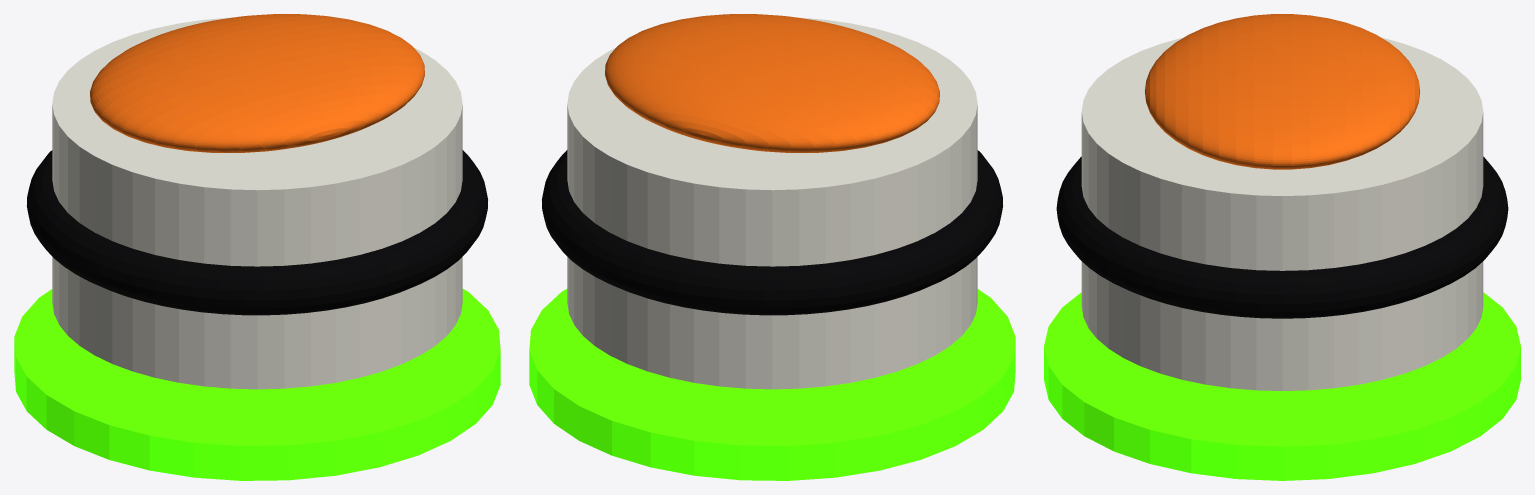
The model's file is food_sushi.dae.
3 views of the same model, side by side, from view 1: azimuth 30°, elevation 25°; view 2: azimuth 150°, elevation 25°; view 3: azimuth 270°, elevation 25° (orthographic). The views are drawn at different scales.
Parts seen in each view (by area): view 1: 01_03_Popular_Food_Sushi_part_01, 01_03_Popular_Food_Sushi_ROOT_base, 01_03_Popular_Food_Sushi_part_03, 01_03_Popular_Food_Sushi_part_02; view 2: 01_03_Popular_Food_Sushi_part_01, 01_03_Popular_Food_Sushi_ROOT_base, 01_03_Popular_Food_Sushi_part_03, 01_03_Popular_Food_Sushi_part_02; view 3: 01_03_Popular_Food_Sushi_part_01, 01_03_Popular_Food_Sushi_ROOT_base, 01_03_Popular_Food_Sushi_part_03, 01_03_Popular_Food_Sushi_part_02.
Boxes of the visible parts, x1,y1,x2,y2 form: 01_03_Popular_Food_Sushi_part_01: (52, 17, 462, 389); 01_03_Popular_Food_Sushi_ROOT_base: (14, 289, 500, 480); 01_03_Popular_Food_Sushi_part_03: (90, 14, 424, 152); 01_03_Popular_Food_Sushi_part_02: (27, 150, 487, 315); 01_03_Popular_Food_Sushi_part_01: (567, 17, 977, 389); 01_03_Popular_Food_Sushi_ROOT_base: (529, 289, 1015, 480); 01_03_Popular_Food_Sushi_part_03: (605, 14, 939, 152); 01_03_Popular_Food_Sushi_part_02: (542, 150, 1002, 315); 01_03_Popular_Food_Sushi_part_01: (1081, 37, 1483, 390); 01_03_Popular_Food_Sushi_ROOT_base: (1044, 292, 1520, 480); 01_03_Popular_Food_Sushi_part_03: (1144, 14, 1420, 169); 01_03_Popular_Food_Sushi_part_02: (1056, 156, 1508, 318).
Size of the model in its own units: 0.76 by 0.5564 by 0.76.
